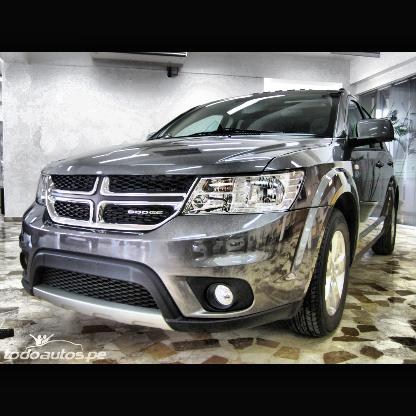Dodge Journey SUV 2012: (18, 86, 398, 336)
